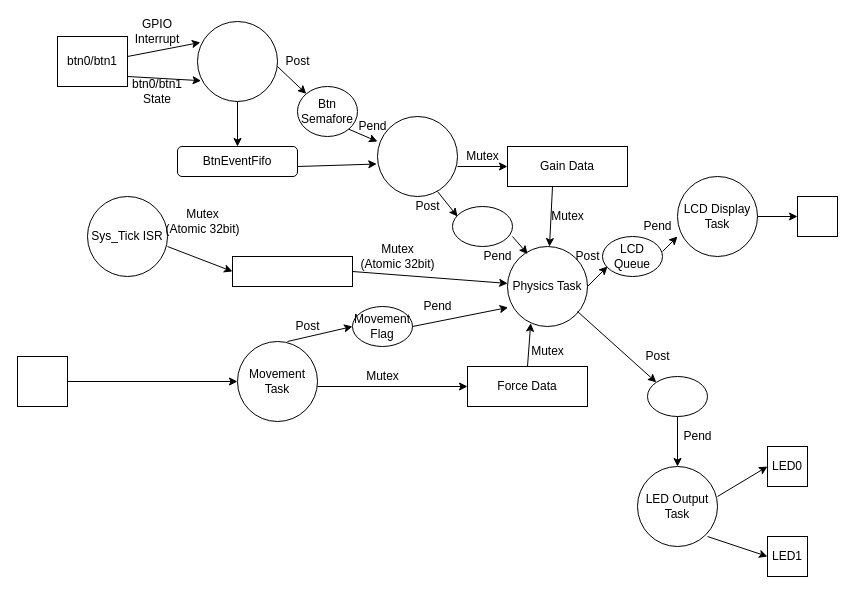
Image size: 855x594. Some labels were removed from this diagram. The box of each missing label's shape, as (x1, y1, x2, y2) in pixels:
BTN_ISR: (196, 20, 278, 102)
Gain Flag: (452, 206, 512, 246)
Gain Task: (376, 116, 458, 196)
LCD: (796, 196, 838, 236)
LED Flag: (646, 376, 708, 416)
Time Data: (232, 256, 352, 286)
Touch Slider: (16, 356, 68, 406)
